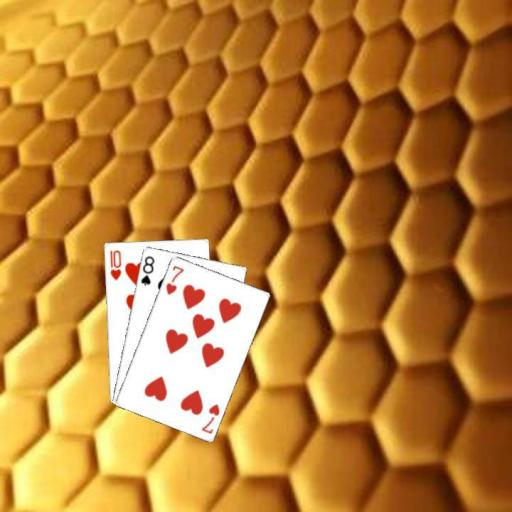10H: (107, 247, 122, 282)
7H: (162, 262, 186, 297), (198, 401, 221, 436)
8S: (137, 253, 156, 287)
